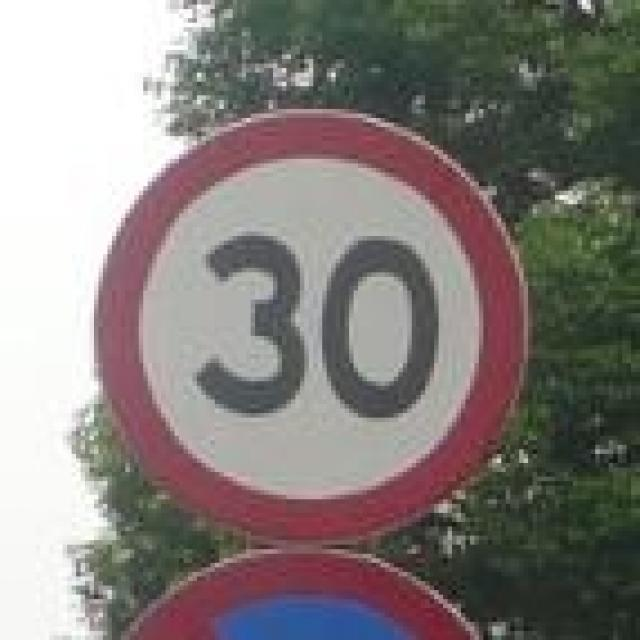speed limit 30: (95, 108, 529, 542)
